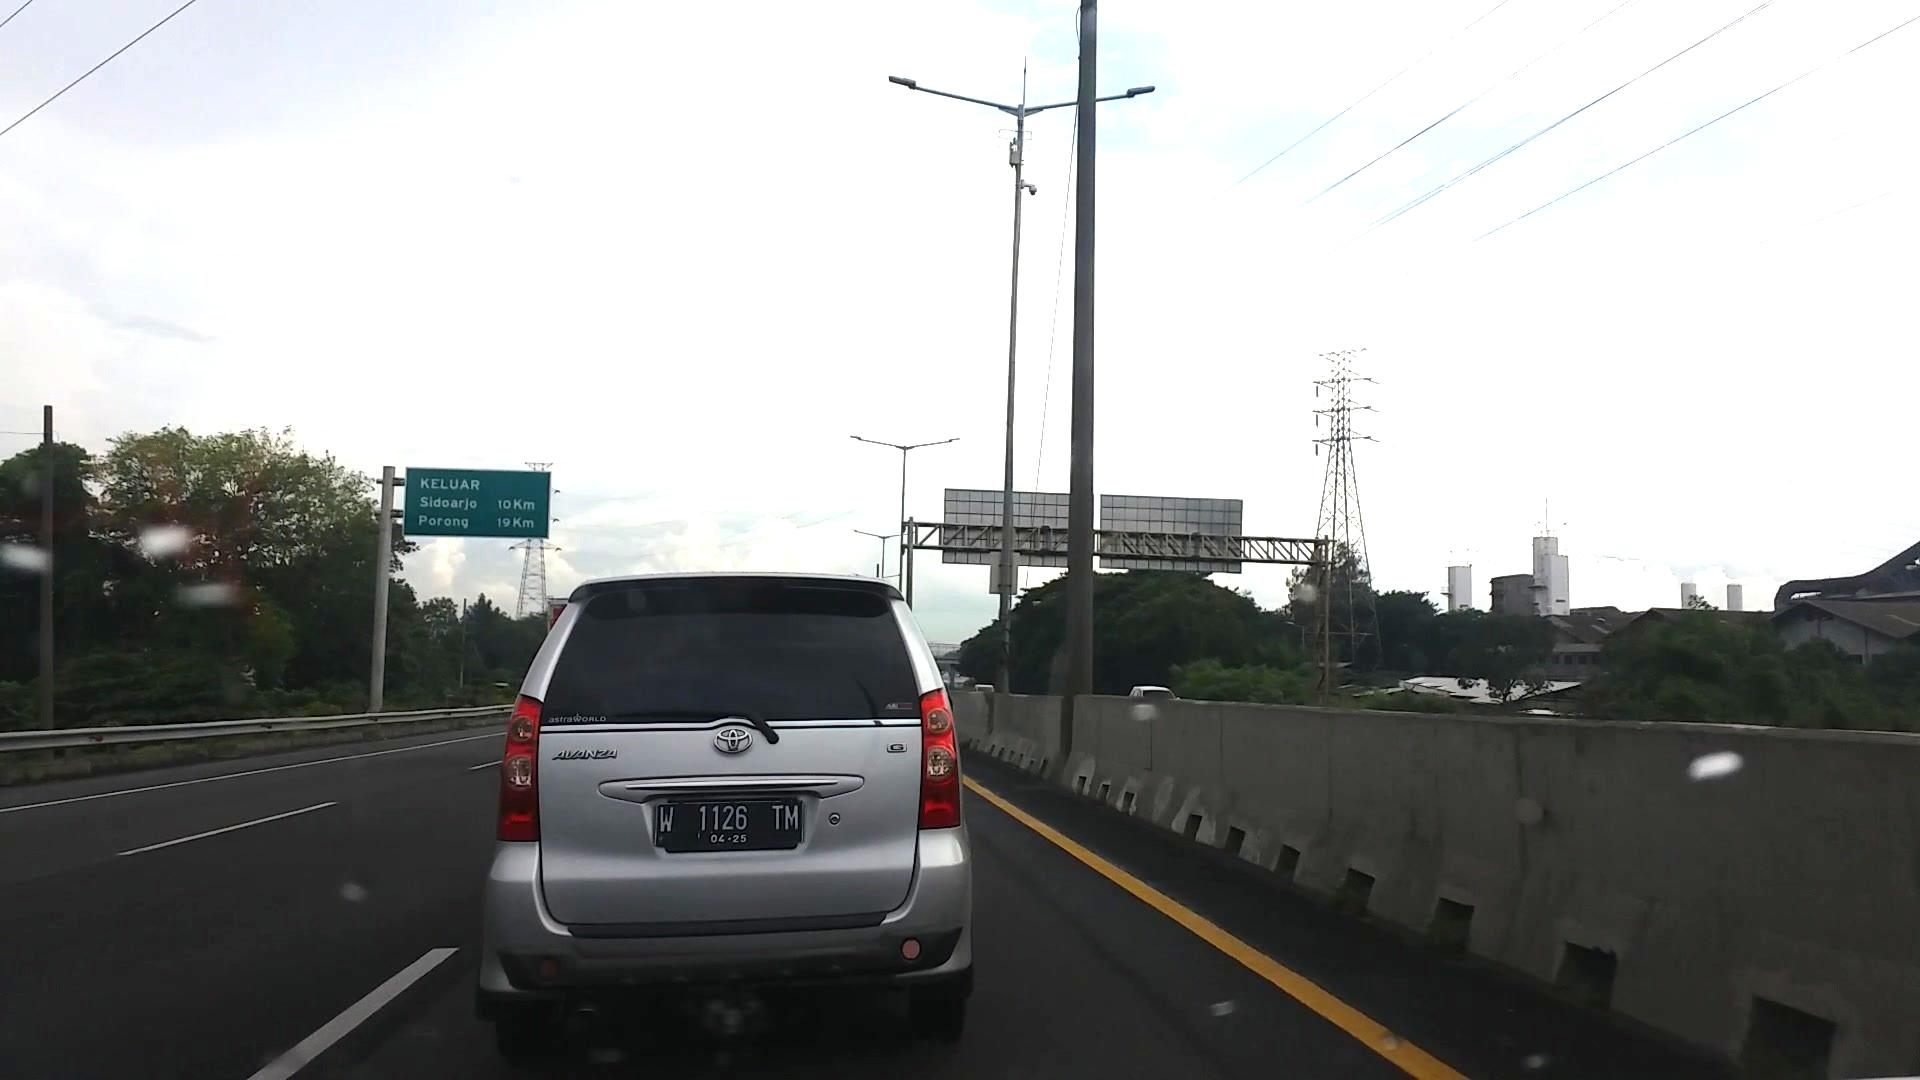plate_positive: (654, 800, 804, 844)
